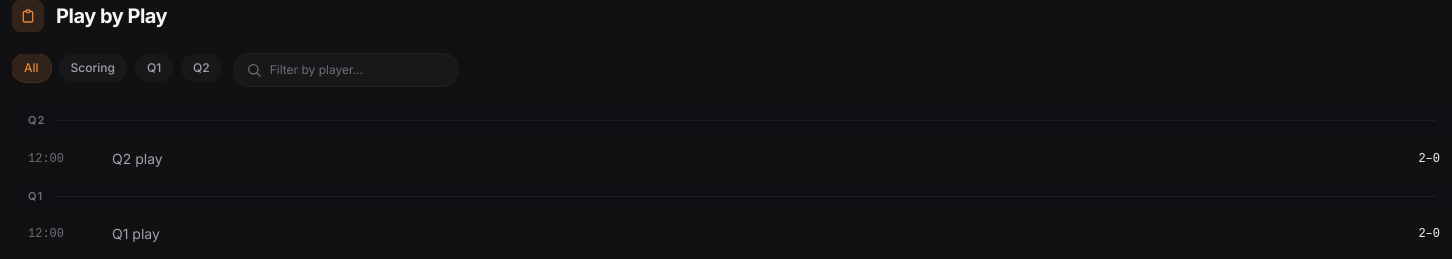
it: PlayByPlay › Loaded state — NBA › filters to Q1 plays when Q1 pill is clicked
Click the button "Q1". click: (154, 68)
box: [135, 54, 173, 82]
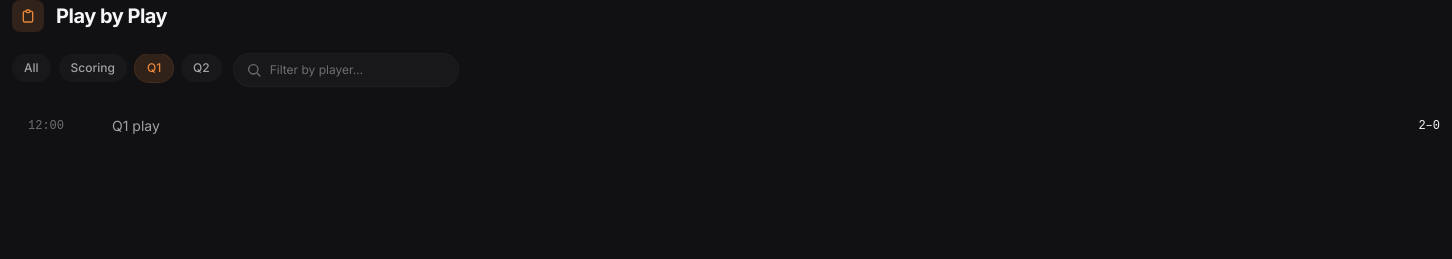
Check: the text "Q1 play" is shown, box [112, 116, 160, 135]
Check: the text "Q2 play" is gone
